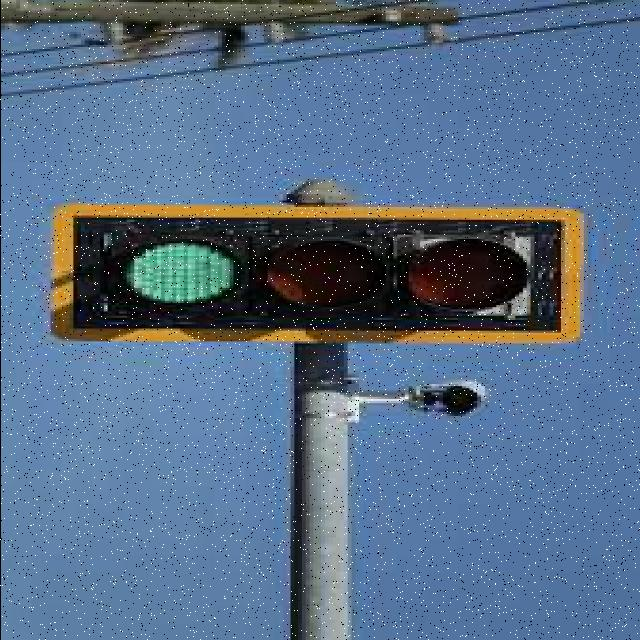green: (72, 212, 558, 324)
